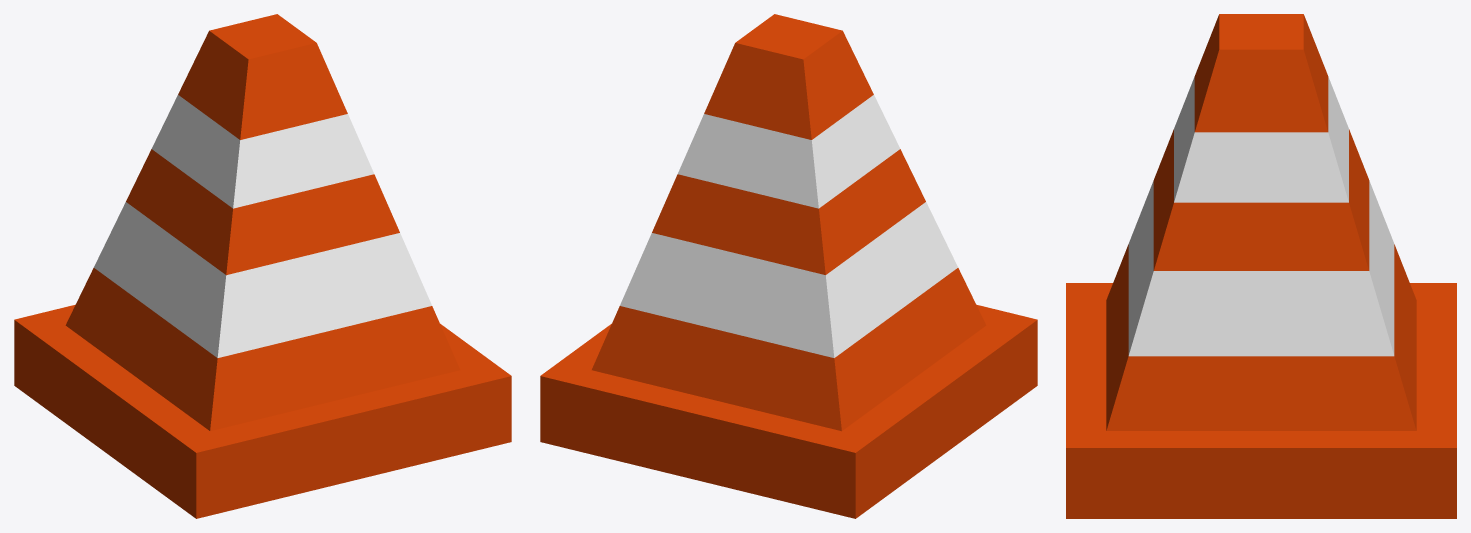
The model's file is TrafficCone.fbx.
The picture shows the model from 3 angles, left to right: view 1: azimuth 30°, elevation 25°; view 2: azimuth 150°, elevation 25°; view 3: azimuth 270°, elevation 25°; orthographic projection. The views are drawn at different scales.
Visible parts, largest first — view 1: Cube; view 2: Cube; view 3: Cube.
Boxes of the visible parts, <box> form: Cube: <box>14,14,511,518</box>; Cube: <box>540,14,1037,518</box>; Cube: <box>1066,14,1456,518</box>.
Size of the model in its own units: 200 by 228 by 200.
